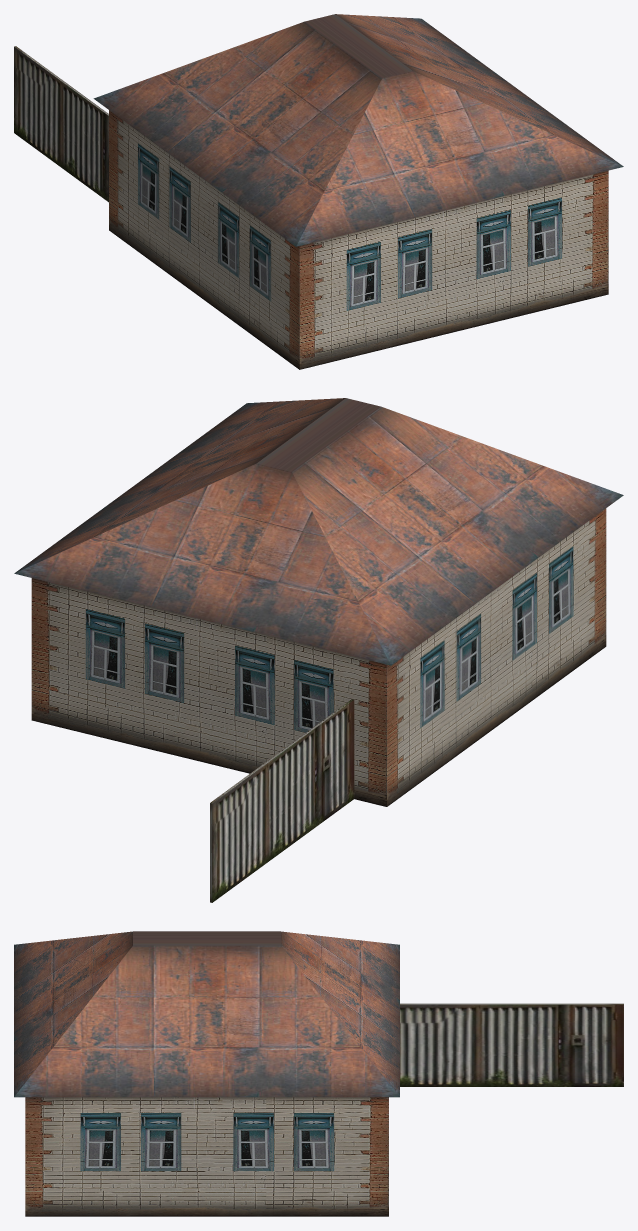
Rendered from r402_ishim_domik2.FBX.
The picture shows the model from 3 angles, top to bottom: view 1: azimuth 30°, elevation 25°; view 2: azimuth 150°, elevation 25°; view 3: azimuth 270°, elevation 25°; orthographic projection. The views are drawn at different scales.
Visible parts, largest first — view 1: r402_ishim_domik2; view 2: r402_ishim_domik2; view 3: r402_ishim_domik2.
Part boxes in pixels (box(x1,y1,x2,y2)): r402_ishim_domik2: box(14, 14, 623, 369); r402_ishim_domik2: box(14, 398, 623, 902); r402_ishim_domik2: box(14, 931, 623, 1216).
Size of the model in its own units: 794 by 1342 by 500.
